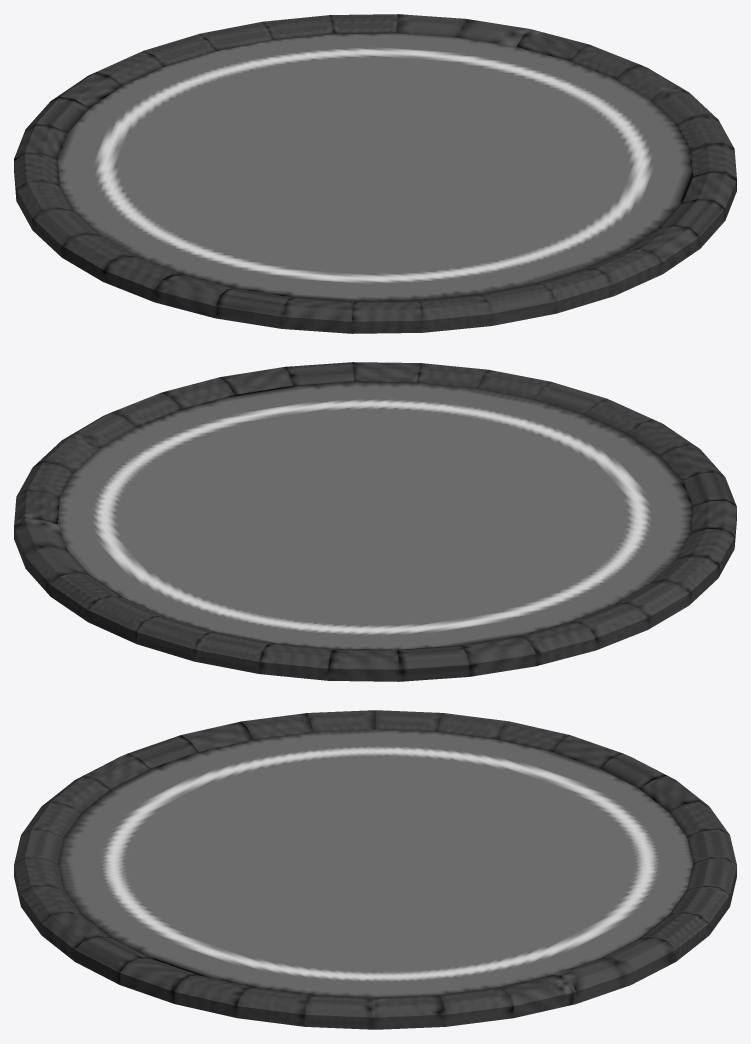
The model's file is teleportPad.fbx.
3 renders of one model, top to bottom at view 1: azimuth 30°, elevation 25°; view 2: azimuth 150°, elevation 25°; view 3: azimuth 270°, elevation 25°, orthographic.
Parts seen in each view (by area): view 1: Cylinder; view 2: Cylinder; view 3: Cylinder.
Boxes of the visible parts, x1,y1,x2,y2 form: Cylinder: (14, 14, 736, 333); Cylinder: (14, 362, 736, 681); Cylinder: (14, 710, 736, 1029).
Size of the model in its own units: 2 by 0.0571 by 2.
Materials: 1 (1 with a texture image).
